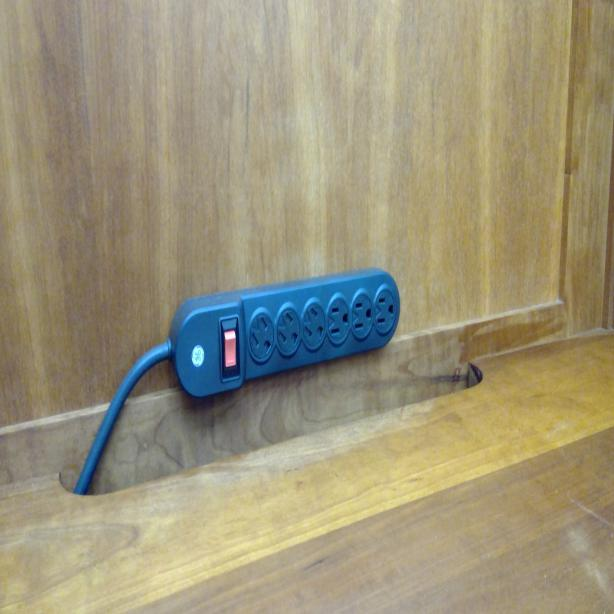typeb: (249, 313, 274, 357), (326, 300, 350, 342), (302, 308, 325, 350), (278, 311, 299, 353), (352, 295, 371, 339), (374, 293, 395, 330)
